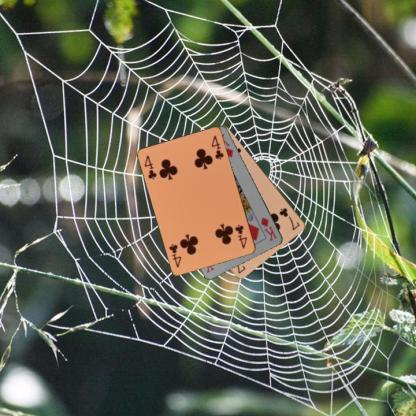4c: (232, 222, 249, 250), (142, 152, 158, 181)
7c: (277, 205, 301, 232)
Kd: (258, 215, 278, 242)
